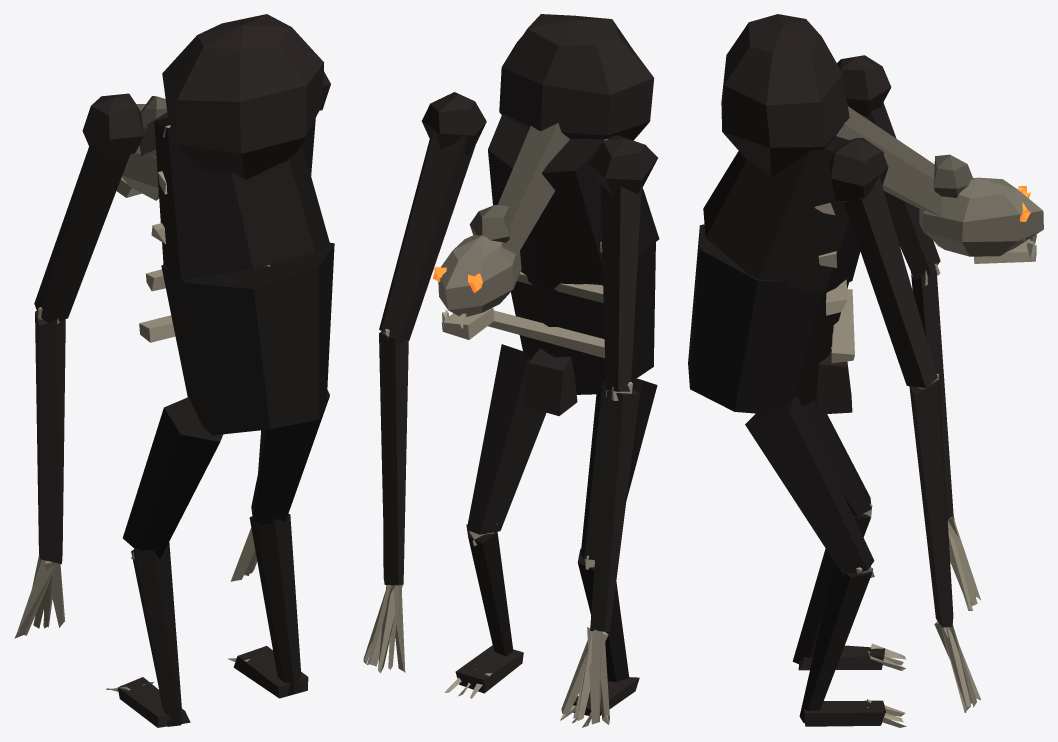
The model's file is creature_gaunt.glb.
3 views of the same model, side by side, from view 1: azimuth 30°, elevation 25°; view 2: azimuth 150°, elevation 25°; view 3: azimuth 270°, elevation 25° (orthographic). The views are drawn at different scales.
Visible parts, largest first — view 1: Torso, ArmL, LegL, LegR, Head, ArmR; view 2: Torso, ArmR, ArmL, LegR, Head, LegL; view 3: Torso, ArmR, LegR, Head, ArmL, LegL.
Part boxes in pixels (bbox=[...]): Torso: bbox=[139, 14, 334, 435]; ArmL: bbox=[14, 93, 143, 638]; LegL: bbox=[106, 397, 223, 727]; LegR: bbox=[227, 390, 329, 698]; Head: bbox=[116, 96, 167, 200]; ArmR: bbox=[230, 71, 330, 581]; Torso: bbox=[488, 14, 659, 415]; ArmR: bbox=[363, 92, 486, 673]; ArmL: bbox=[561, 135, 657, 724]; LegR: bbox=[444, 344, 546, 698]; Head: bbox=[432, 122, 569, 339]; LegL: bbox=[560, 378, 657, 727]; Torso: bbox=[688, 14, 883, 414]; ArmR: bbox=[829, 138, 980, 712]; LegR: bbox=[745, 397, 906, 727]; Head: bbox=[836, 106, 1043, 263]; ArmL: bbox=[837, 55, 980, 610]; LegL: bbox=[792, 400, 905, 670].
Size of the model in its own units: 0.9111 by 2.2 by 1.06.
